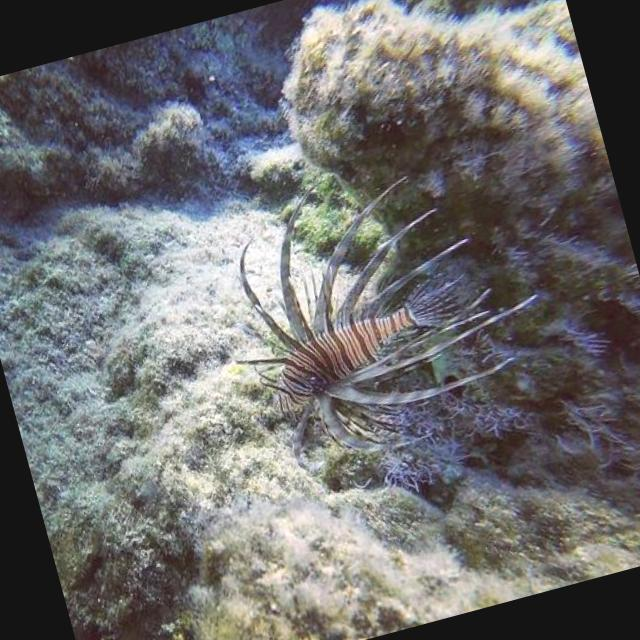Aslan Baligi: (192, 132, 568, 484)
